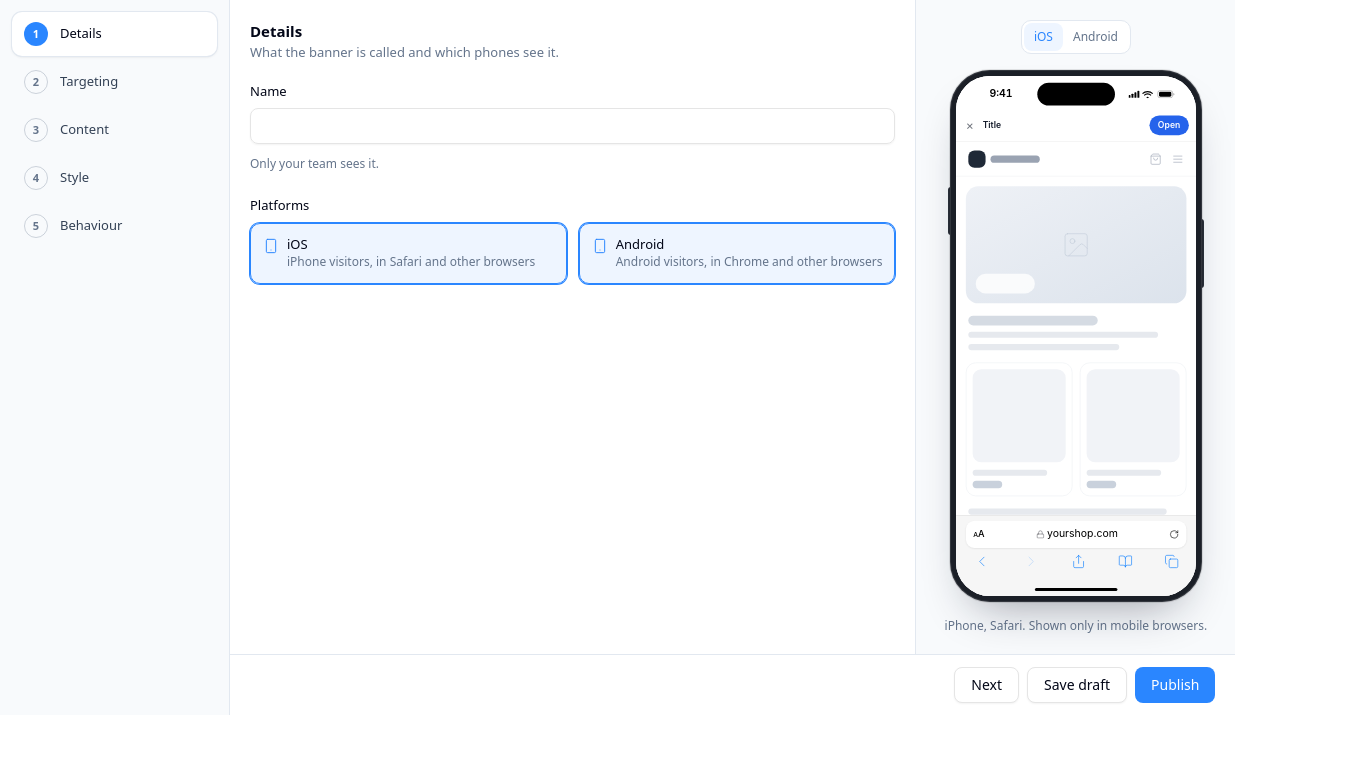
Test: SmartBannerComposer › labels the Platforms and Position groups for assistive tech
expect the element named "Platforms" is shown: met, box [250, 223, 895, 284]
Click the button "4 Style": (114, 178) [12, 156, 217, 200]
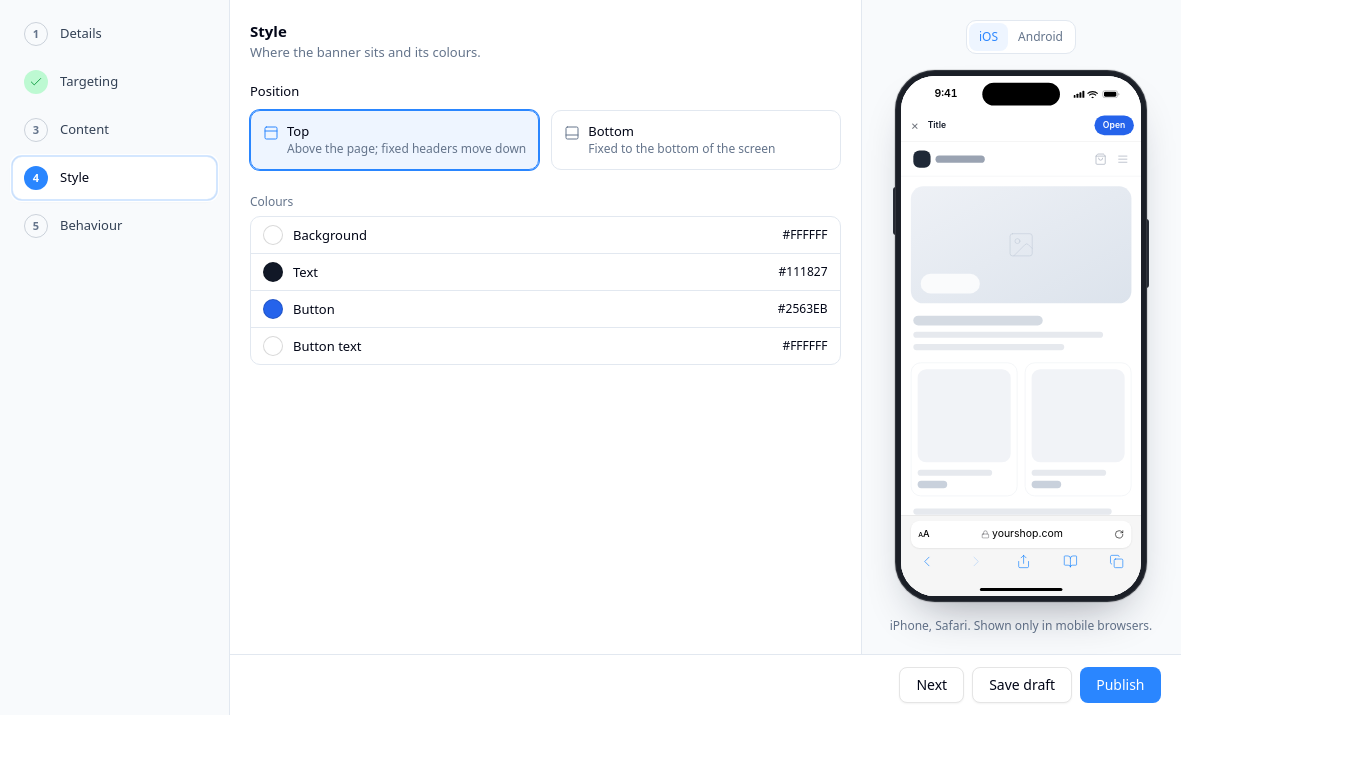
expect the element named "Position" is shown: met, box [250, 110, 840, 170]
